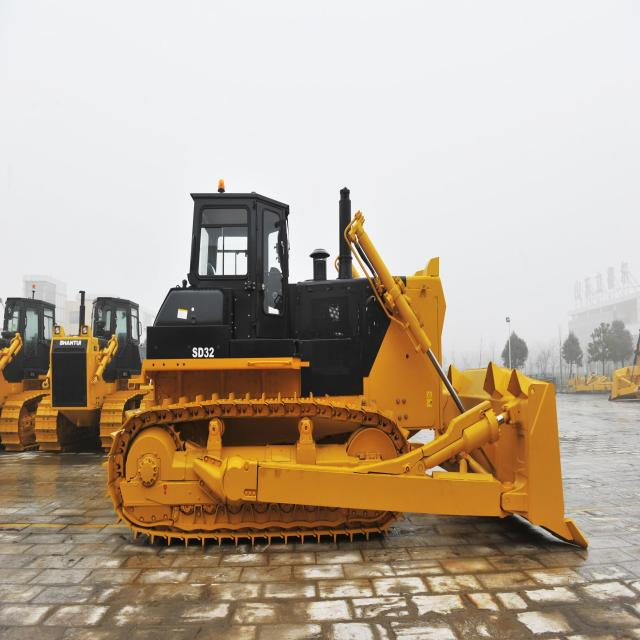Bulldozer: (99, 168, 602, 564)
